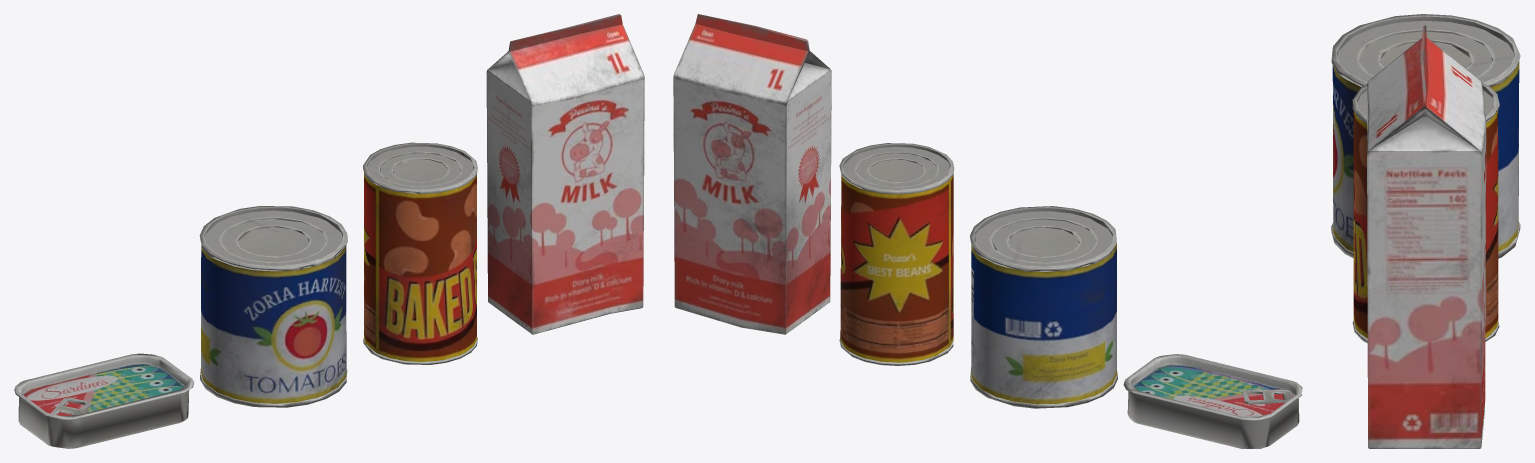
The model's file is rations.glb.
3 renders of one model, left to right at view 1: azimuth 30°, elevation 25°; view 2: azimuth 150°, elevation 25°; view 3: azimuth 270°, elevation 25°, orthographic. The views are drawn at different scales.
Visible parts, largest first — view 1: long_life_food_milk; view 2: long_life_food_milk; view 3: long_life_food_milk.
Boxes of the visible parts, x1,y1,x2,y2 form: long_life_food_milk: (14,14,644,448); long_life_food_milk: (673,14,1302,448); long_life_food_milk: (1331,14,1520,448).
Bounding box in the file's own units: 0.5233 × 0.2376 × 0.1136.
1 material, 1 textured.
